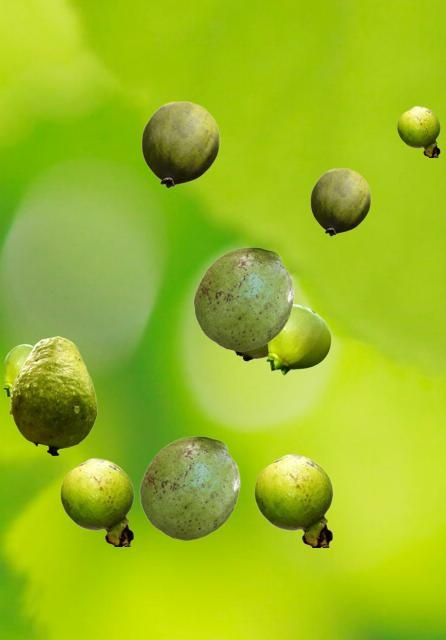guava: (9, 336, 96, 455), (139, 436, 239, 539), (193, 247, 293, 350), (254, 454, 332, 546), (141, 101, 219, 187), (60, 458, 133, 545), (266, 304, 330, 374), (310, 168, 370, 235), (397, 106, 439, 156), (3, 344, 33, 398), (234, 345, 267, 360)
